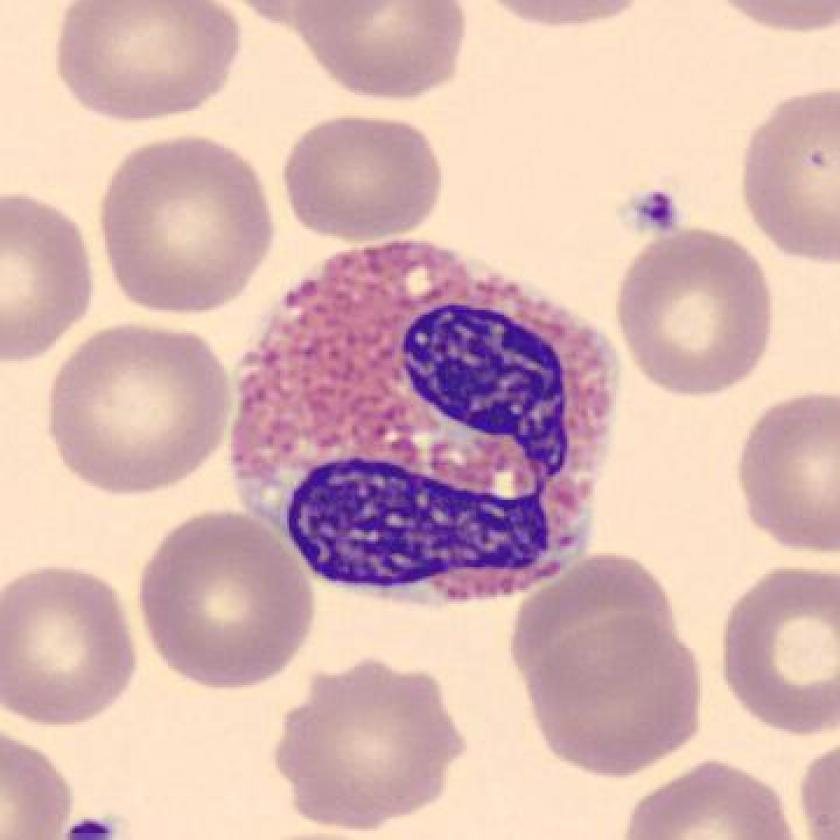eosinophil: (220, 228, 631, 619)
